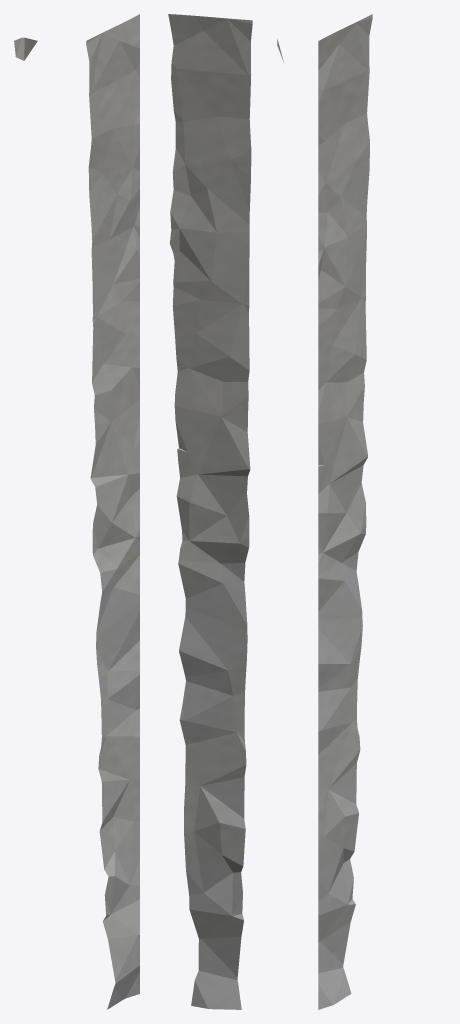
3 renders of one model, left to right at view 1: azimuth 90°, elevation 25°; view 2: azimuth 210°, elevation 25°; view 3: azimuth 270°, elevation 25°, orthographic. The views are drawn at different scales.
Bounding box in the file's own units: 0.0498 × 0.8374 × 0.0986.
1 material, 1 textured.
